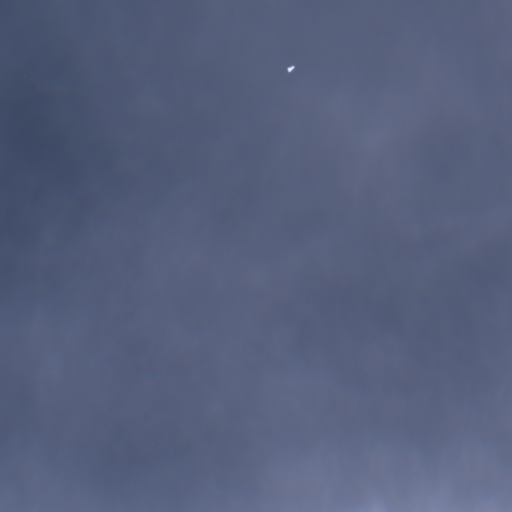Iceberg: (287, 65, 295, 72)
